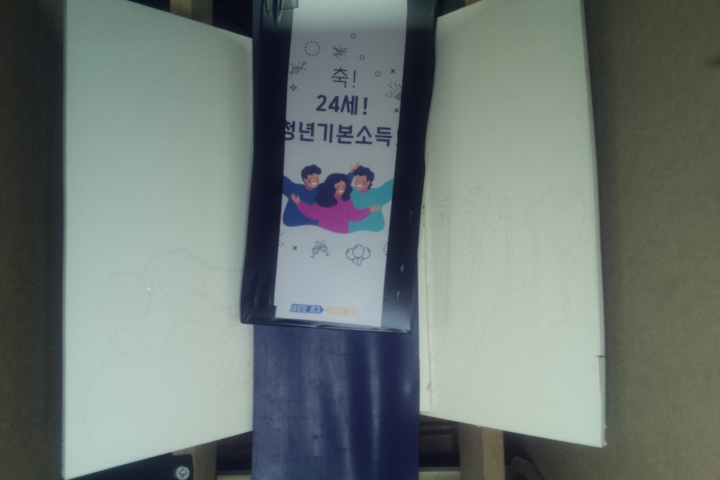book: (238, 1, 441, 335)
